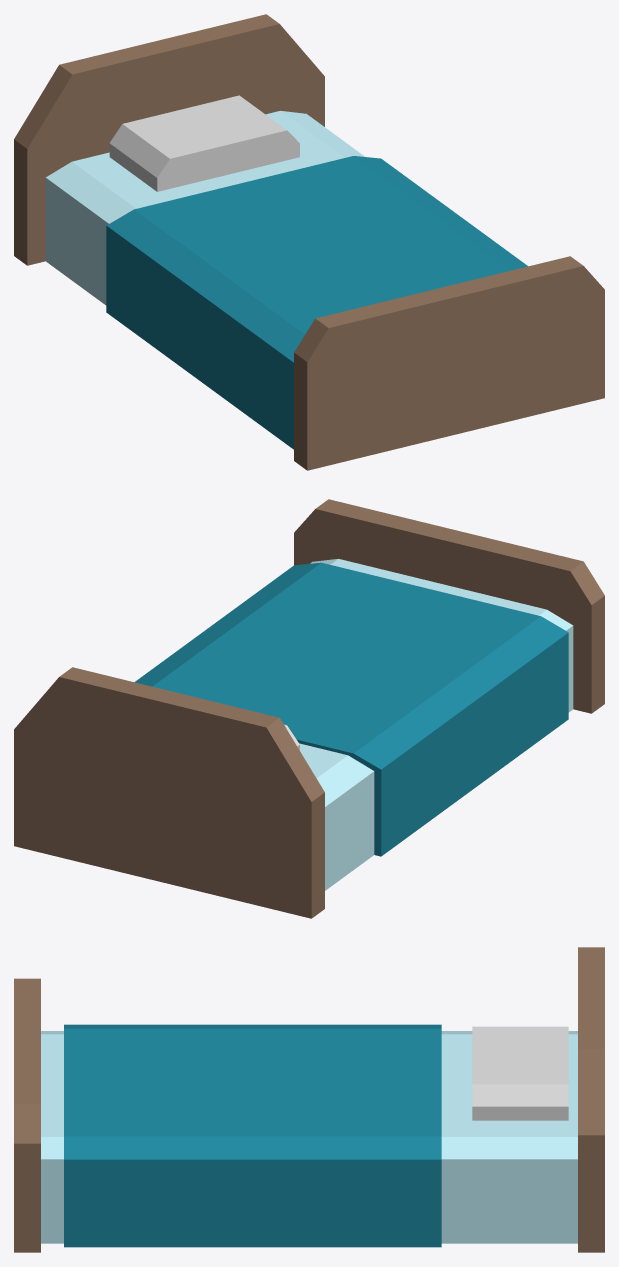
The model's file is Bed 03.FBX.
3 views of the same model, one above another, from view 1: azimuth 30°, elevation 25°; view 2: azimuth 150°, elevation 25°; view 3: azimuth 270°, elevation 25° (orthographic).
Visible parts, largest first — view 1: Bed 03; view 2: Bed 03; view 3: Bed 03.
Part boxes in pixels (box(x1,y1,x2,y2)): Bed 03: box(14, 14, 604, 470); Bed 03: box(14, 499, 604, 918); Bed 03: box(14, 947, 604, 1252).
Bounding box in the file's own units: 187 × 108 × 319.
